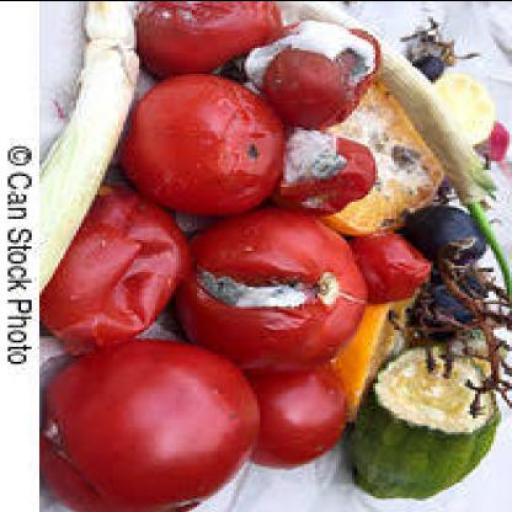biodegradable: (283, 1, 511, 314), (45, 334, 265, 510), (176, 204, 373, 370), (44, 0, 141, 290), (44, 180, 194, 352), (121, 68, 291, 214), (351, 339, 499, 497), (326, 75, 448, 233), (417, 236, 511, 412), (239, 14, 384, 126), (247, 358, 355, 464), (339, 284, 425, 416), (142, 1, 288, 78), (276, 124, 378, 214), (357, 228, 436, 301), (412, 202, 491, 260), (439, 73, 499, 145), (417, 282, 491, 336), (402, 13, 478, 62), (433, 266, 491, 292), (475, 118, 511, 158), (417, 53, 449, 79)
